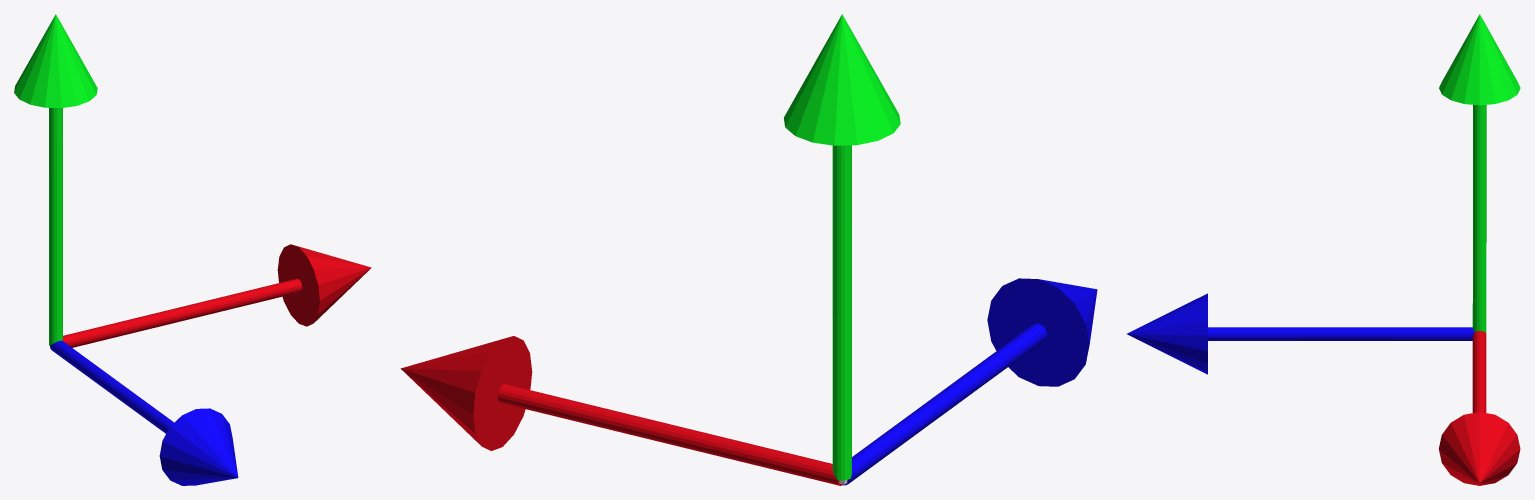
Rendered from translation_handle.fbx.
3 renders of one model, left to right at view 1: azimuth 30°, elevation 25°; view 2: azimuth 150°, elevation 25°; view 3: azimuth 270°, elevation 25°, orthographic. The views are drawn at different scales.
Visible parts, largest first — view 1: Arrow; view 2: Arrow; view 3: Arrow.
Boxes of the visible parts, bbox=[...] form: Arrow: bbox=[14, 14, 371, 485]; Arrow: bbox=[400, 14, 1097, 485]; Arrow: bbox=[1127, 14, 1520, 485].
Bounding box in the file's own units: 10015 × 10015 × 10019.
